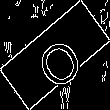O_NW: (25, 22, 85, 88)
